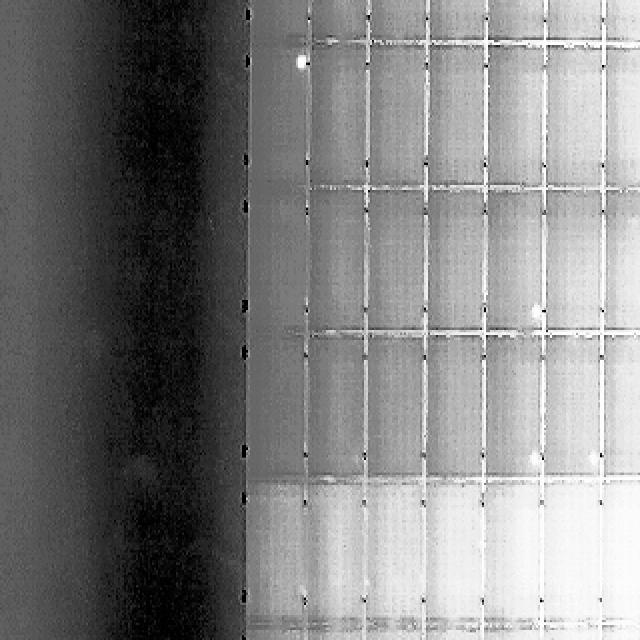Hotspots: (582, 443, 600, 471), (290, 51, 310, 73), (532, 298, 548, 325), (530, 444, 546, 470)
PV-modules: (303, 41, 366, 189), (484, 476, 547, 622), (302, 340, 364, 487), (300, 478, 364, 620), (542, 186, 604, 332), (248, 331, 309, 479), (303, 186, 365, 330), (369, 42, 430, 188), (488, 186, 548, 333), (543, 44, 604, 188), (249, 187, 310, 331), (250, 41, 310, 187), (368, 332, 428, 478), (424, 186, 484, 331), (487, 333, 547, 478), (369, 186, 429, 330), (542, 333, 601, 478), (542, 477, 601, 622), (426, 43, 485, 187), (490, 43, 548, 188), (424, 333, 482, 478), (422, 476, 480, 621), (248, 482, 306, 626), (368, 478, 426, 619), (596, 332, 640, 478), (596, 475, 640, 620), (598, 185, 640, 330), (598, 45, 640, 187), (542, 0, 604, 40), (426, 0, 486, 40), (370, 0, 430, 40), (490, 0, 548, 40), (306, 0, 366, 38), (250, 0, 310, 38), (598, 0, 640, 42), (364, 622, 426, 640), (302, 624, 366, 640), (420, 624, 480, 639), (244, 625, 305, 639)
